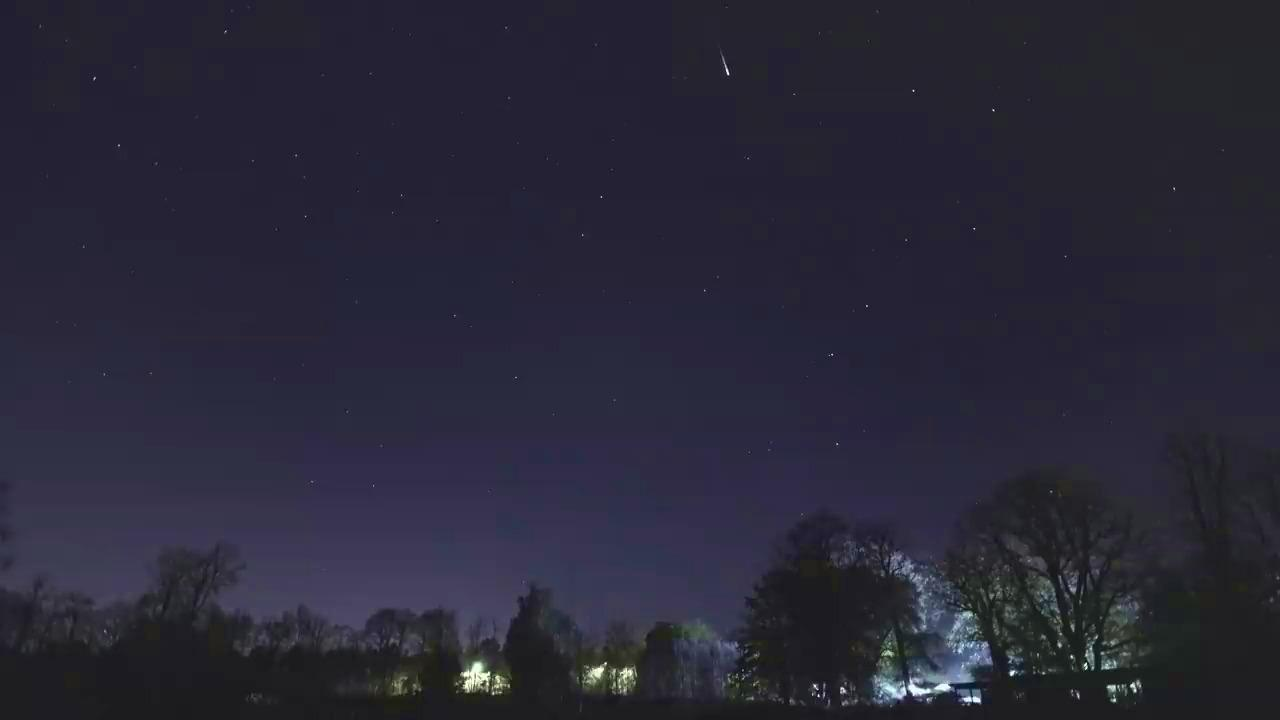meteorite: (671, 48, 773, 79)
